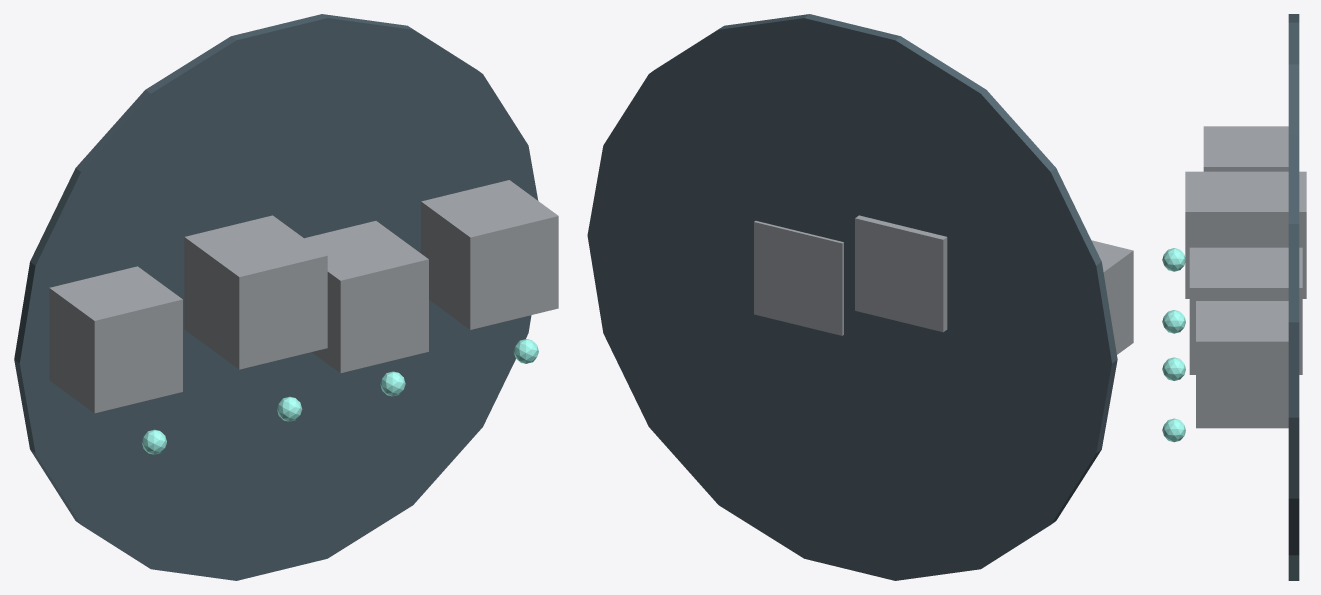
The model's file is 02_local_prop_cluster.glb.
3 views of the same model, side by side, from view 1: azimuth 30°, elevation 25°; view 2: azimuth 150°, elevation 25°; view 3: azimuth 270°, elevation 25° (orthographic). The views are drawn at different scales.
Visible parts, largest first — view 1: scatter_base, tech_crate_1, tech_crate_3, tech_crate_0, tech_crate_2; view 2: scatter_base, tech_crate_1, tech_crate_2, tech_crate_0; view 3: tech_crate_3, tech_crate_1, scatter_base, tech_crate_2, tech_crate_0, status_light_3, status_light_2, status_light_0, status_light_1.
Boxes of the visible parts, x1,y1,x2,y2 form: scatter_base: (14,14,538,580); tech_crate_1: (184,215,327,369); tech_crate_3: (421,180,558,329); tech_crate_0: (49,266,182,413); tech_crate_2: (304,221,428,373); scatter_base: (587,14,1117,580); tech_crate_1: (855,215,947,332); tech_crate_2: (754,221,843,335); tech_crate_0: (1091,240,1133,354); tech_crate_3: (1196,301,1288,428); tech_crate_1: (1185,171,1306,298); scatter_base: (1288,14,1299,580); tech_crate_2: (1189,247,1302,374); tech_crate_0: (1203,126,1288,171); status_light_3: (1162,418,1185,442); status_light_2: (1162,357,1185,380); status_light_0: (1162,248,1185,271); status_light_1: (1162,310,1185,333).
Size of the model in its own units: 1.9 by 1.87 by 0.4827.
